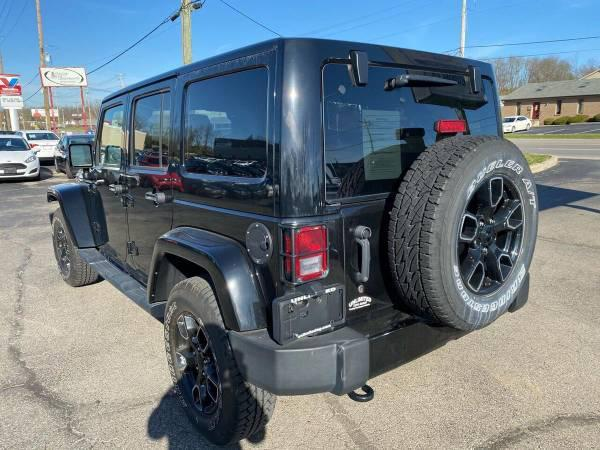Front_Fender: (44, 183, 101, 256)
Front_Left_Door: (88, 164, 123, 265)
Front_Left_Window: (93, 104, 131, 169)
Left_Taillight: (284, 217, 334, 285)
Rear_Bumper: (231, 301, 465, 397)
Rear_Fender: (149, 70, 344, 344)
Rear_Left_Door: (123, 167, 175, 290)
Rear_Left_Window: (129, 87, 185, 172)
Rear_Windshield: (326, 58, 504, 199)
Roof: (106, 39, 494, 217)
Tailgate: (330, 195, 408, 325)
Wheel: (392, 135, 547, 331), (162, 274, 271, 446), (48, 210, 97, 284)
